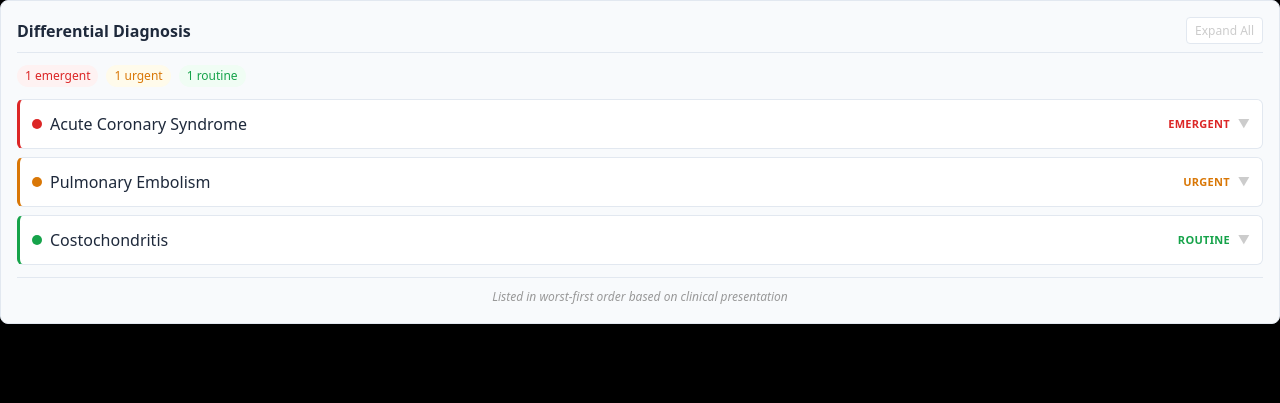
Test: DifferentialList › does not show cdrContext/regionalContext when absent
The width and height of the screenshot is (1280, 403).
What coordinates should you click on to do the following:
click the text "Pulmonary Embolism"
I would click on:
 (130, 182)
Its box is [50,171,210,193].
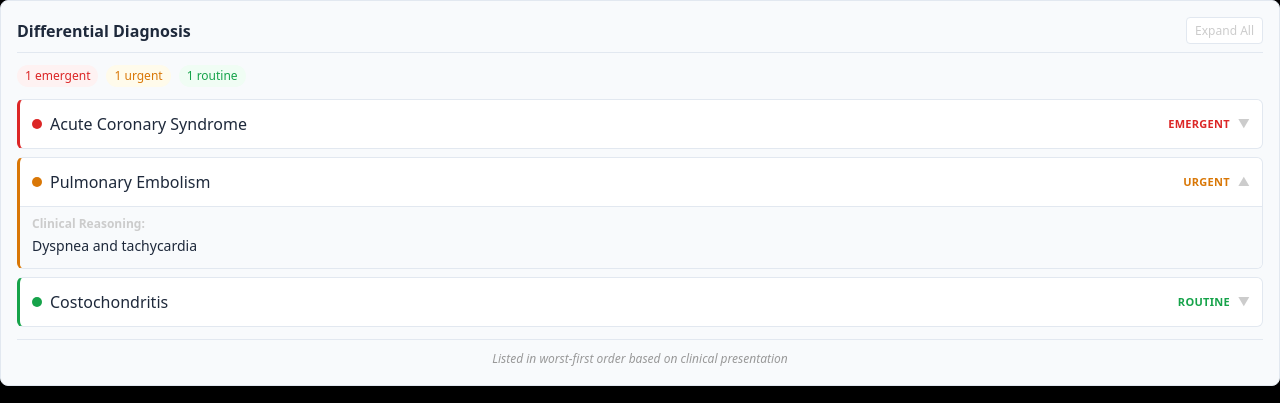
Expected: the text "Dyspnea and tachycardia" is shown, [32,236,197,255]
